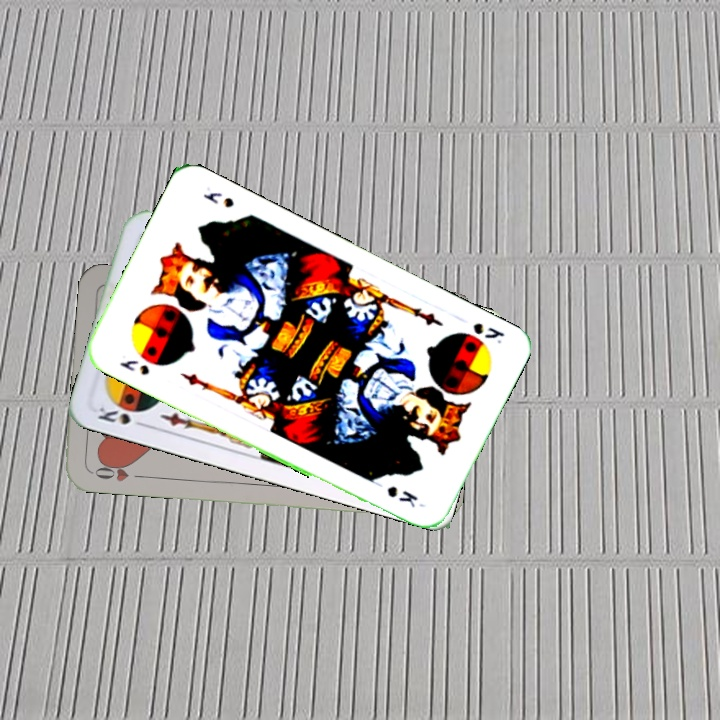HO: (89, 457, 148, 484)
SK: (94, 402, 150, 430), (468, 318, 508, 347), (115, 356, 153, 378)
